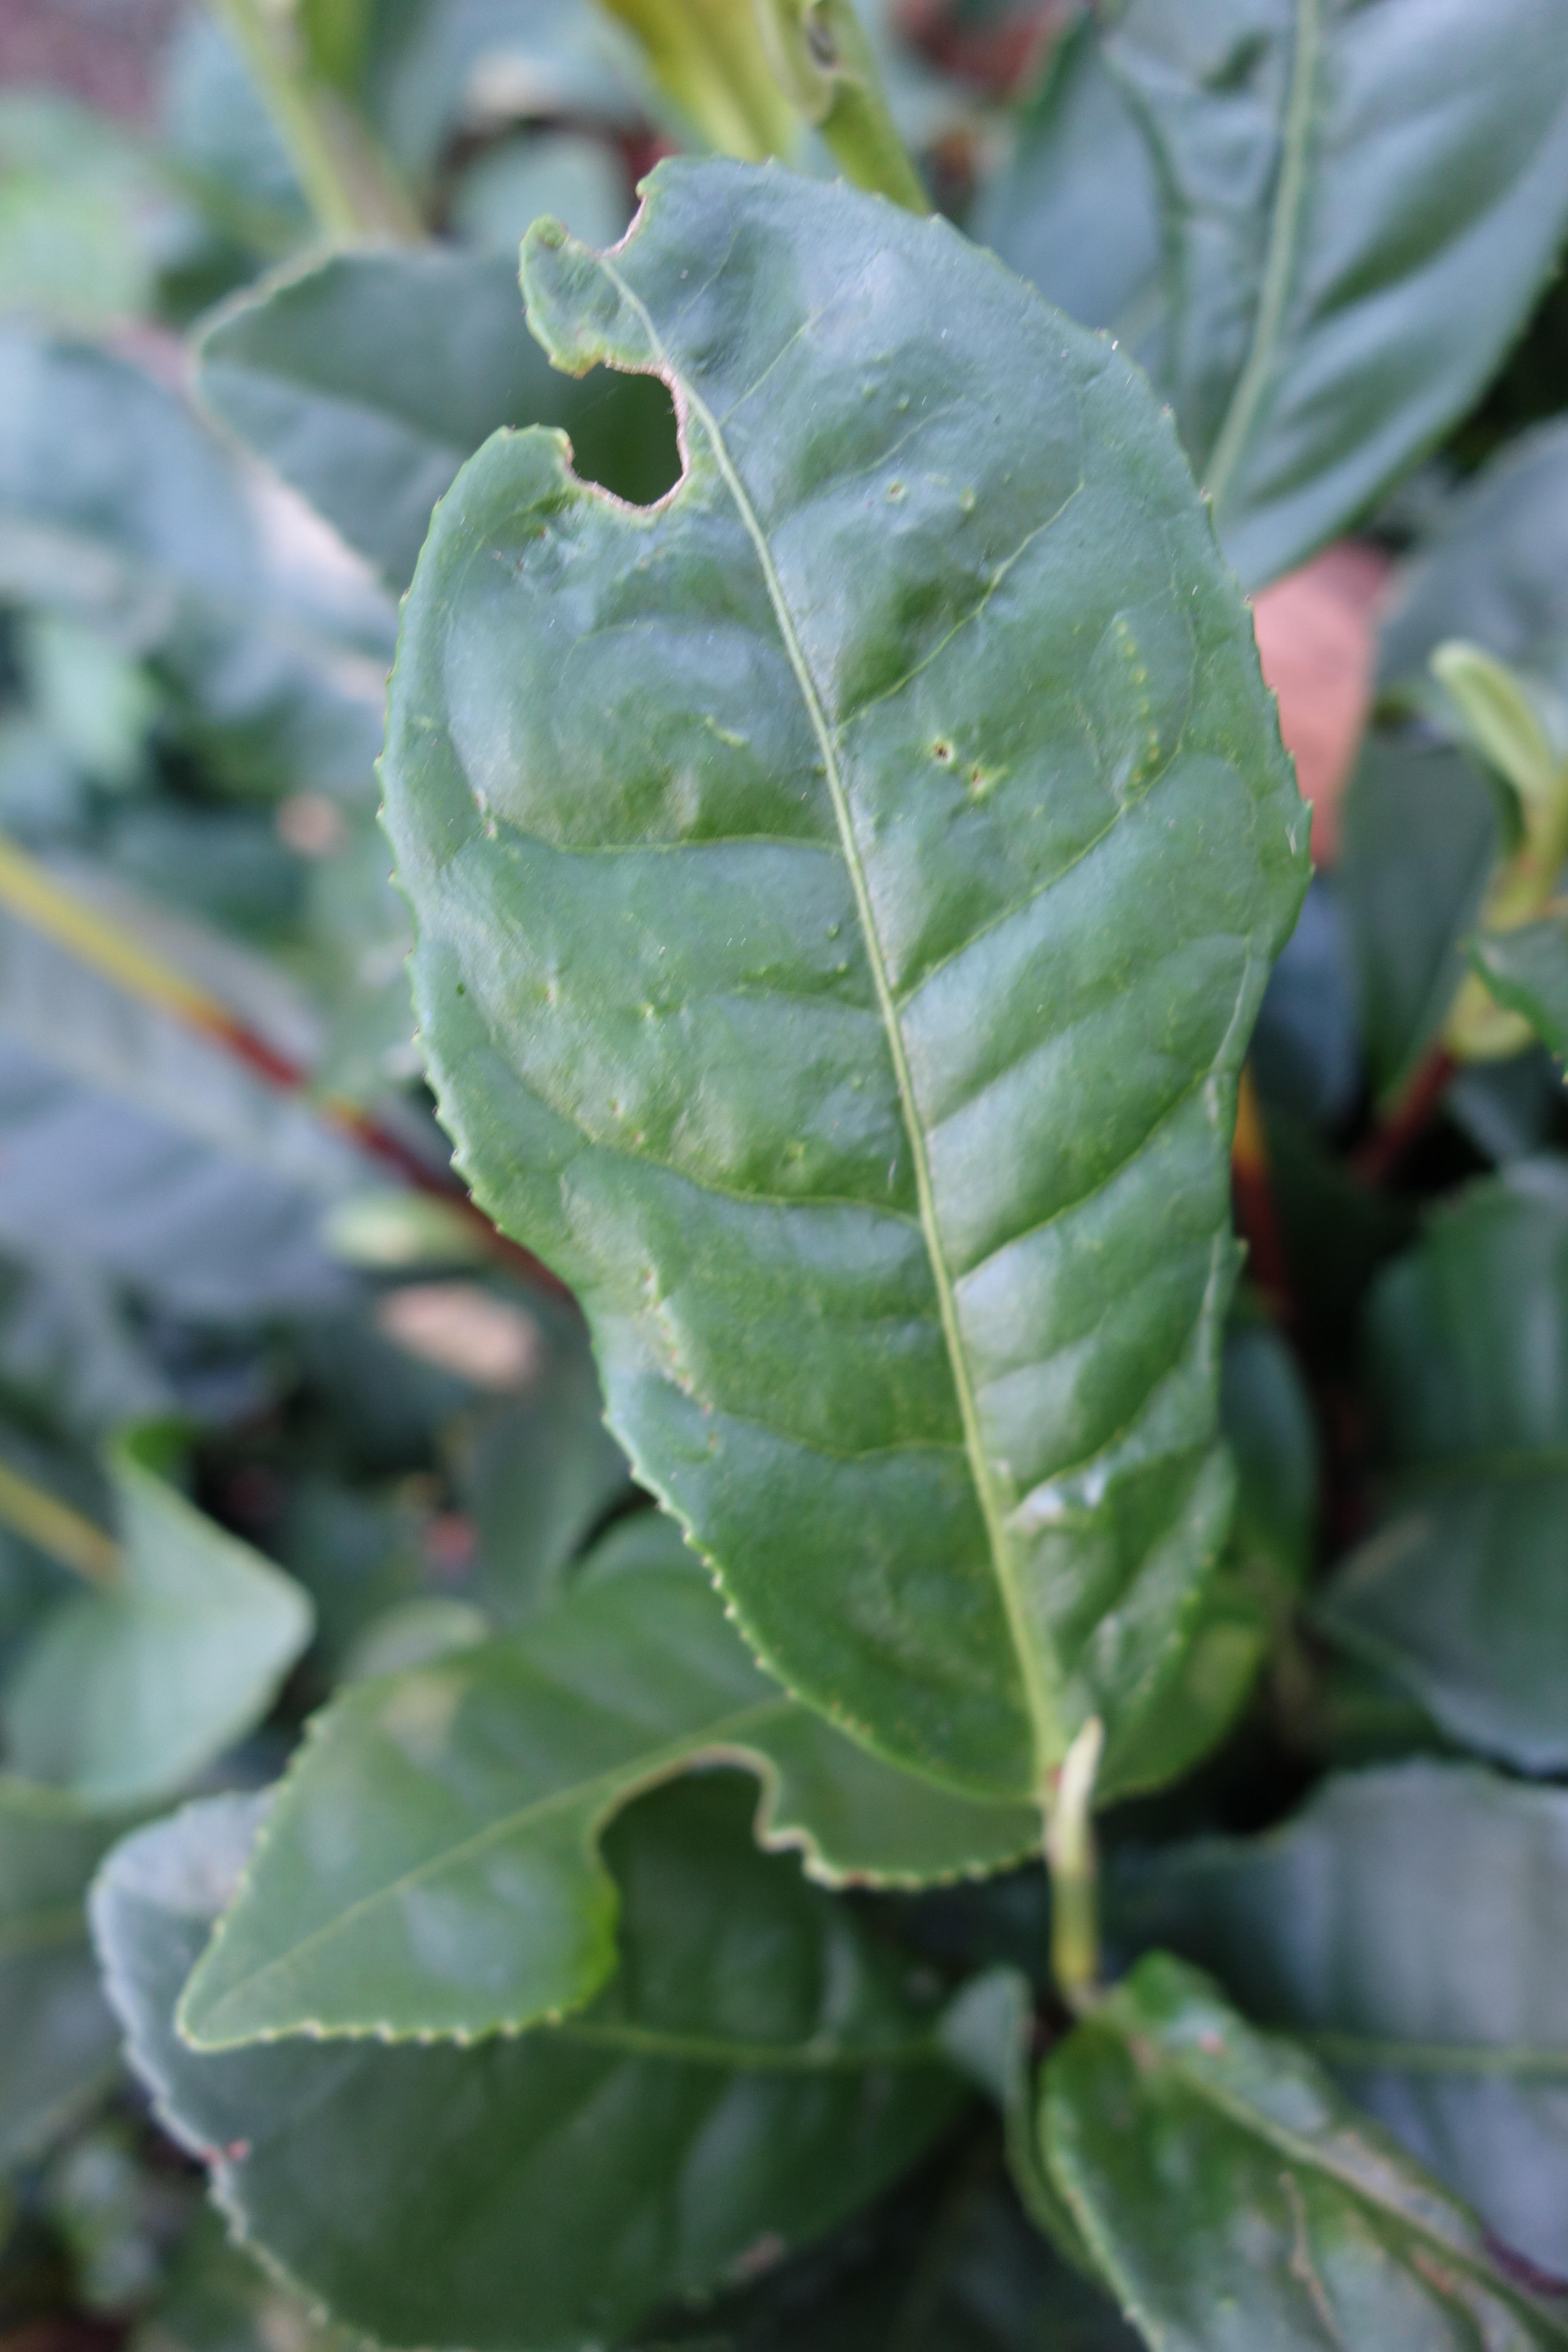chihuo_high: (362, 152, 1323, 1792)
